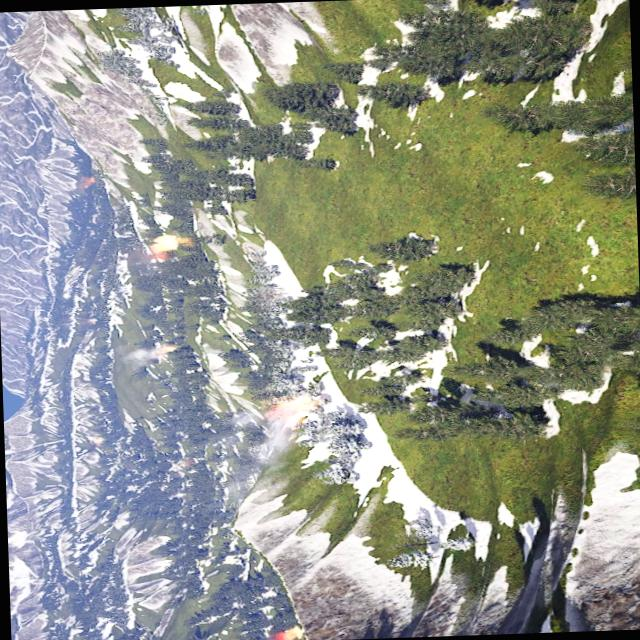fire: (278, 394, 316, 417), (276, 624, 303, 640), (152, 232, 176, 247), (93, 434, 105, 442), (165, 344, 179, 350)
smoke: (214, 406, 298, 506), (120, 345, 163, 364), (124, 243, 161, 264), (72, 174, 94, 188)
